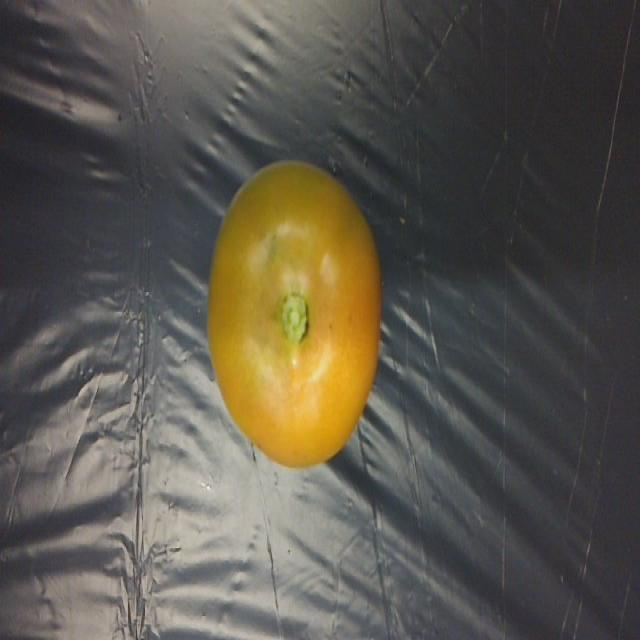sari: (192, 151, 398, 494)
